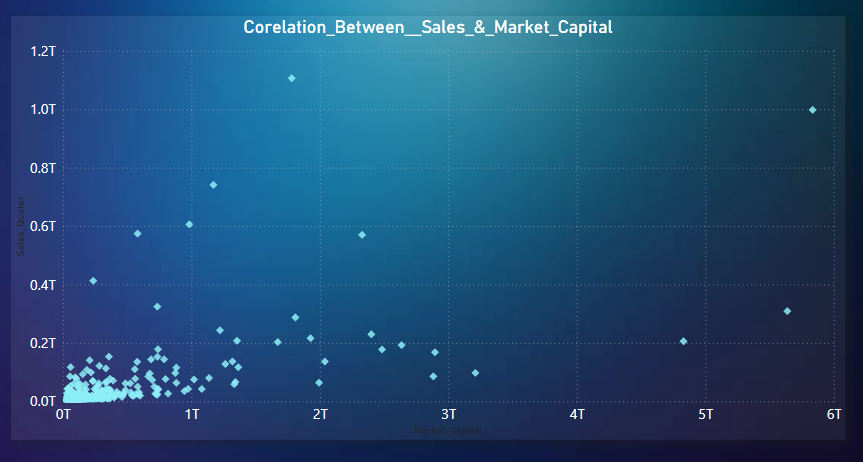

The dashboard page shown, as its layout file describes it:
{"tool":"powerbi","page":{"name":"Corelation","canvas":[1280,720],"ordinal":2},"visuals":[{"type":"scatterChart","title":"Corelation_Between__Sales_&_Market_Capital","fields":{"Y":["Sum(Top 500 Companies - India.Sales_Quater)"],"X":["Top 500 Companies - India.Market_Capital"]},"box":[57.1,55.4,1170.8,594.6],"z":0}]}

Visuals, with their boxes on the page's 1280x720 design canvas (x1, y1, x2, y2). These are canvas units, not pixel positions in the 863x462 screenshot, which may show the page scaled, cropped or inside an application window:
"Corelation_Between__Sales_&_Market_Capital" scatterChart: <box>57,55,1228,650</box>
